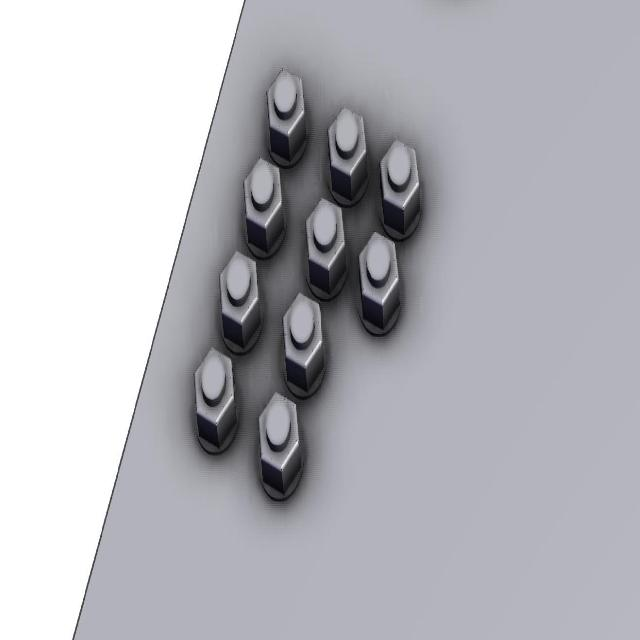bolt nut: (193, 346, 238, 452), (280, 292, 326, 392), (256, 392, 300, 494), (304, 195, 348, 296), (358, 230, 400, 331), (242, 154, 285, 252), (217, 250, 260, 348), (379, 136, 420, 237), (266, 68, 308, 162), (326, 106, 368, 200)
